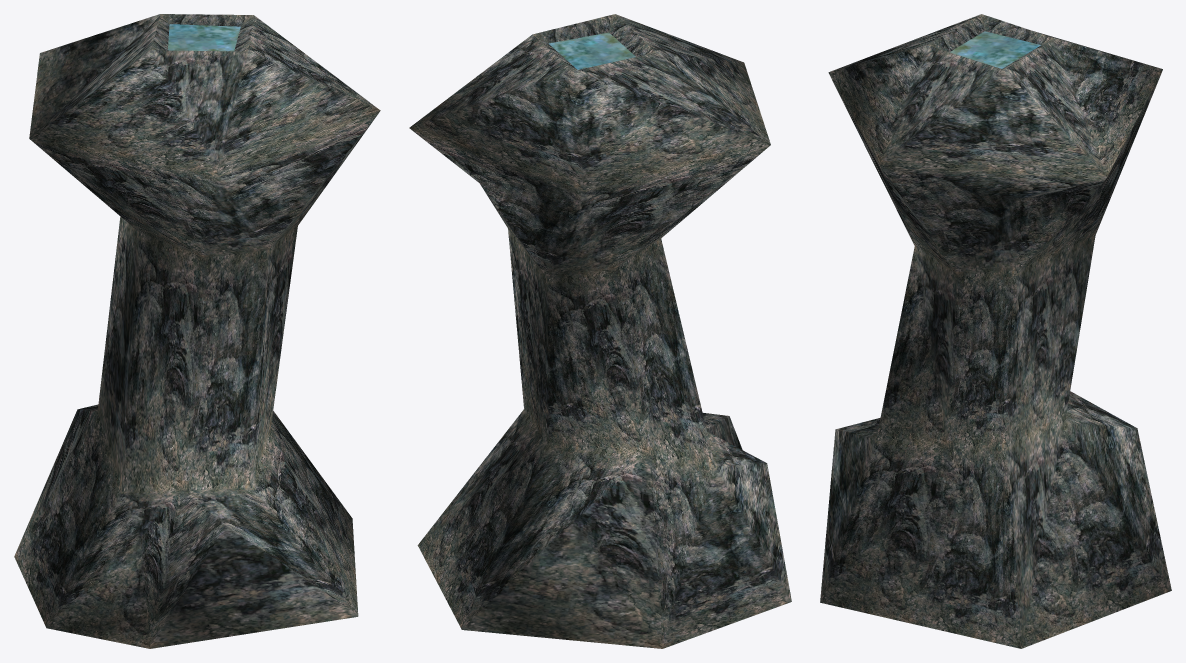
File: rock_crystl_geyser_med_l4.fbx
3 views of the same model, side by side, from view 1: azimuth 30°, elevation 25°; view 2: azimuth 150°, elevation 25°; view 3: azimuth 270°, elevation 25° (orthographic).
Visible parts, largest first — view 1: mesh_node; view 2: mesh_node; view 3: mesh_node.
Part boxes in pixels (x1,y1,x2,y2): mesh_node: (14,14,380,648); mesh_node: (409,14,791,648); mesh_node: (820,14,1171,648).
Size of the model in its own units: 15.35 by 23.11 by 13.89.
